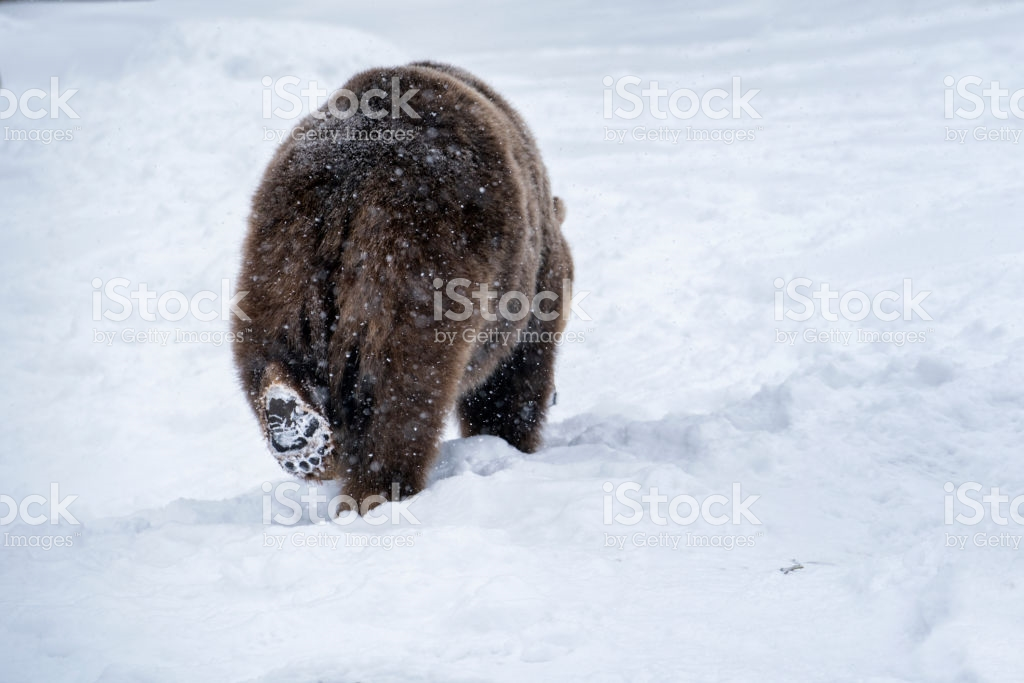bear: (227, 55, 580, 517)
